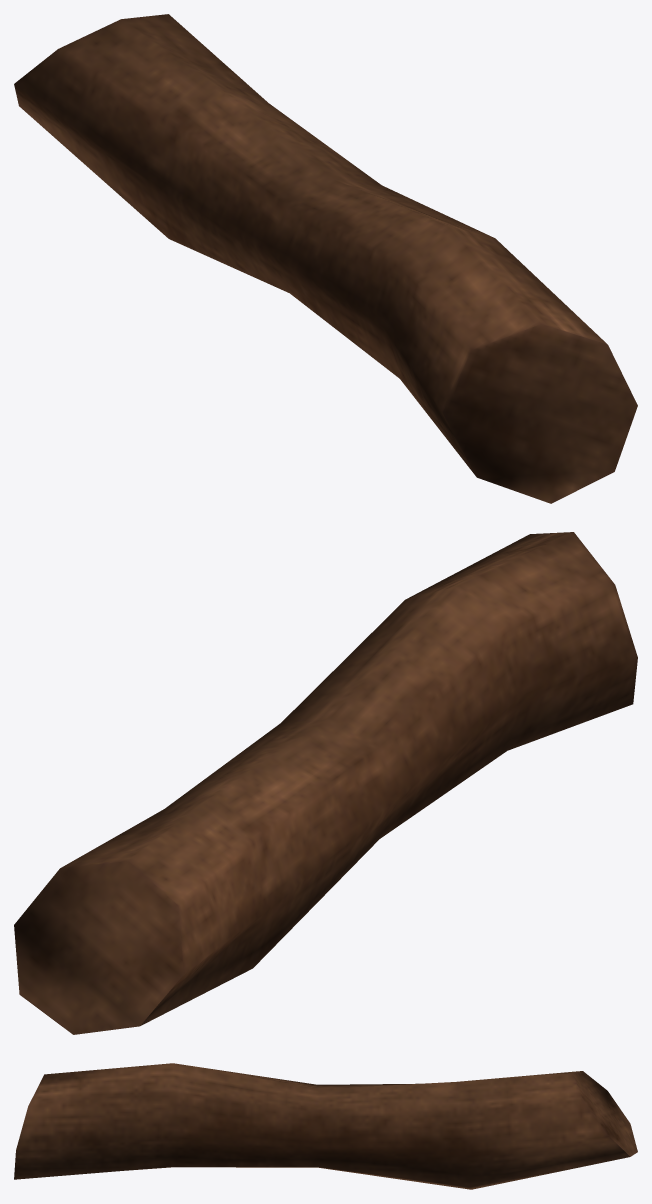
File: Firewood 2.fbx
3 renders of one model, top to bottom at view 1: azimuth 30°, elevation 25°; view 2: azimuth 150°, elevation 25°; view 3: azimuth 270°, elevation 25°, orthographic. The views are drawn at different scales.
Parts seen in each view (by area): view 1: Firewood 2; view 2: Firewood 2; view 3: Firewood 2.
Part boxes in pixels (x1=…): Firewood 2: x1=14, y1=14, x2=637, y2=503; Firewood 2: x1=14, y1=532, x2=637, y2=1034; Firewood 2: x1=14, y1=1063, x2=637, y2=1189.
Bounding box in the file's own units: 0.1233 × 0.1483 × 0.6615.
